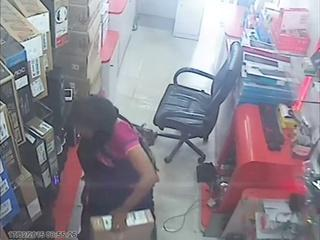shoplifting: (66, 95, 160, 240)
